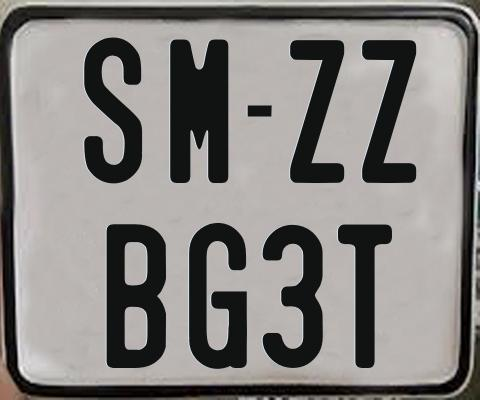3: (262, 222, 324, 366)
B: (104, 223, 169, 371)
G: (189, 221, 248, 369)
M: (169, 36, 227, 180)
S: (82, 36, 143, 186)
T: (338, 221, 395, 369)
Z: (290, 37, 348, 182), (362, 38, 416, 181)
